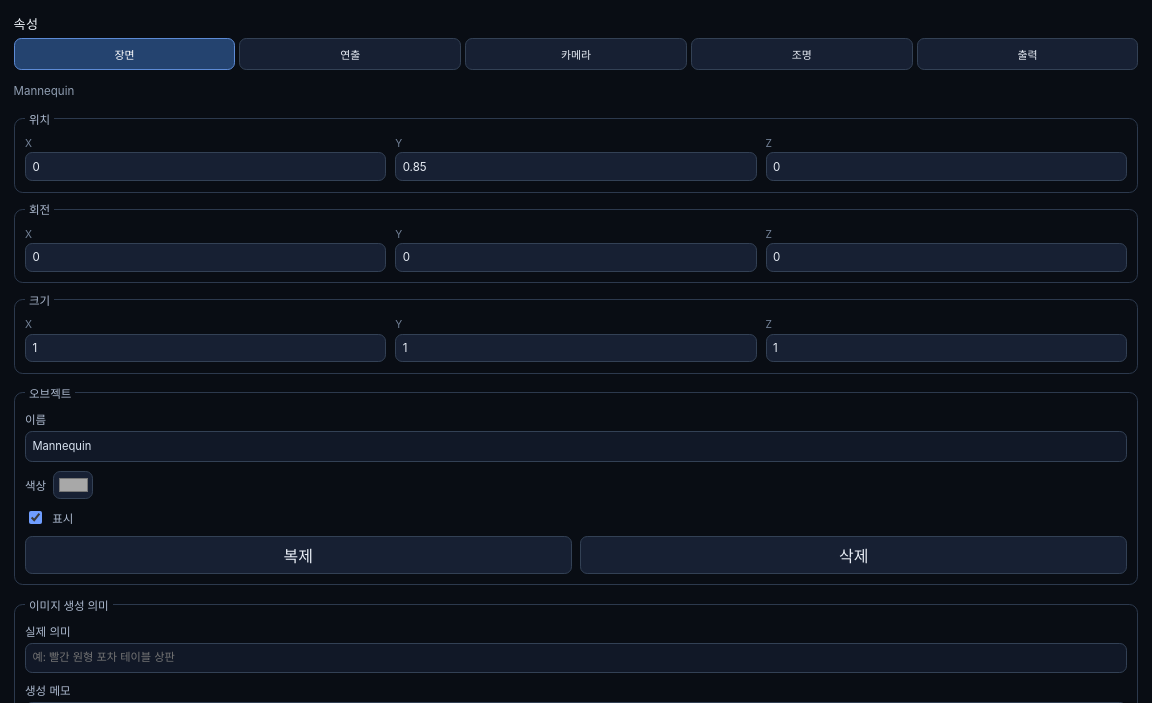
Test case: Inspector › 빈 오브젝트 이름을 거부하고 기존 이름을 복원한다
Clear the field named "오브젝트 이름": (576, 446) top-left (25, 431), bottom-right (1127, 462)
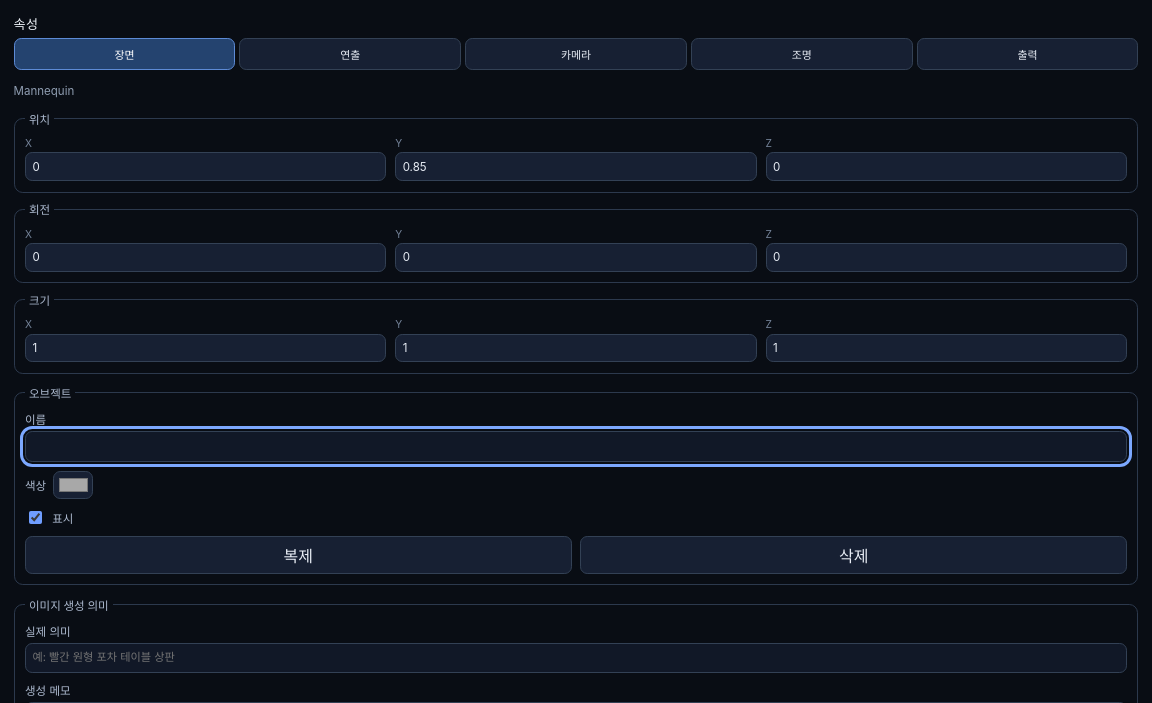
Leave the field named "오브젝트 이름", box top-left (25, 431), bottom-right (1127, 462)
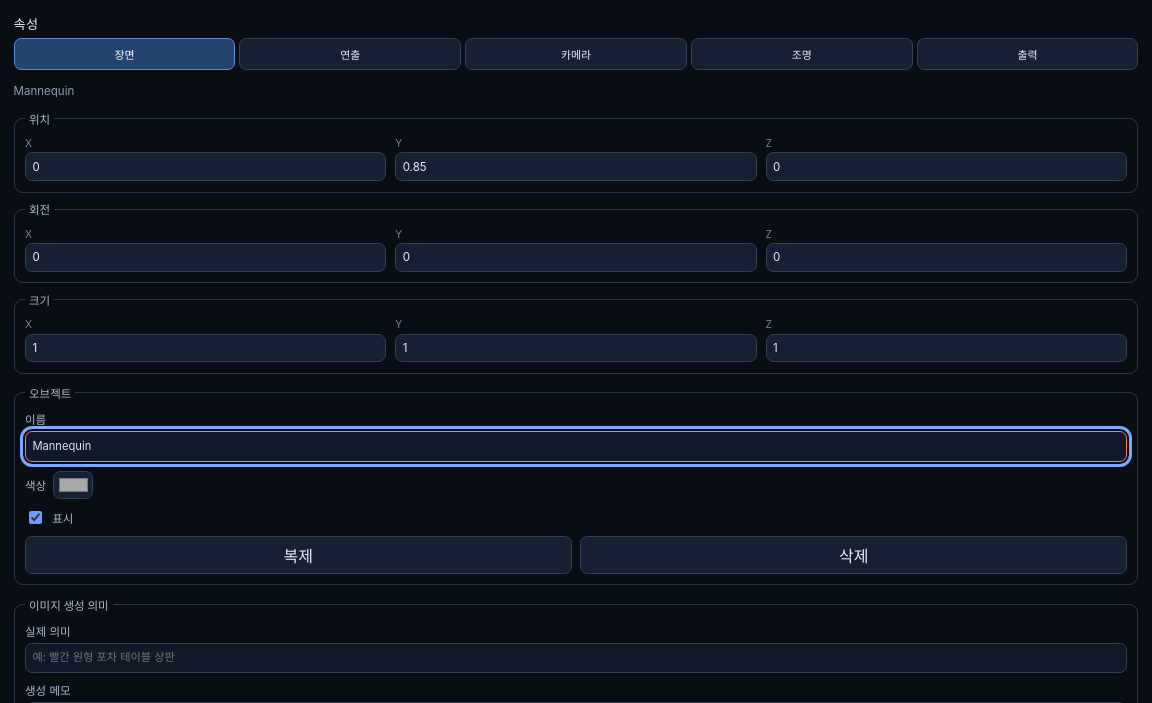
Expected: the field named "오브젝트 이름" holds "Mannequin", top-left (25, 431), bottom-right (1127, 462)
